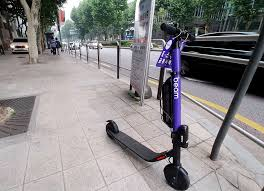kick_board: (106, 23, 190, 190)
kick_handler: (158, 22, 195, 42)
kick_neck: (163, 50, 188, 147)
kick_wheel: (163, 164, 188, 190), (106, 121, 117, 139)
